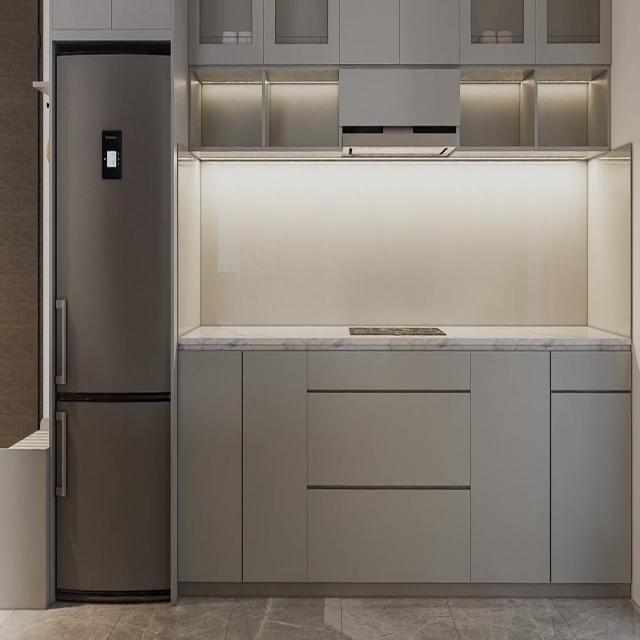obstacle: (176, 350, 630, 598), (51, 39, 173, 603), (188, 0, 612, 151)
